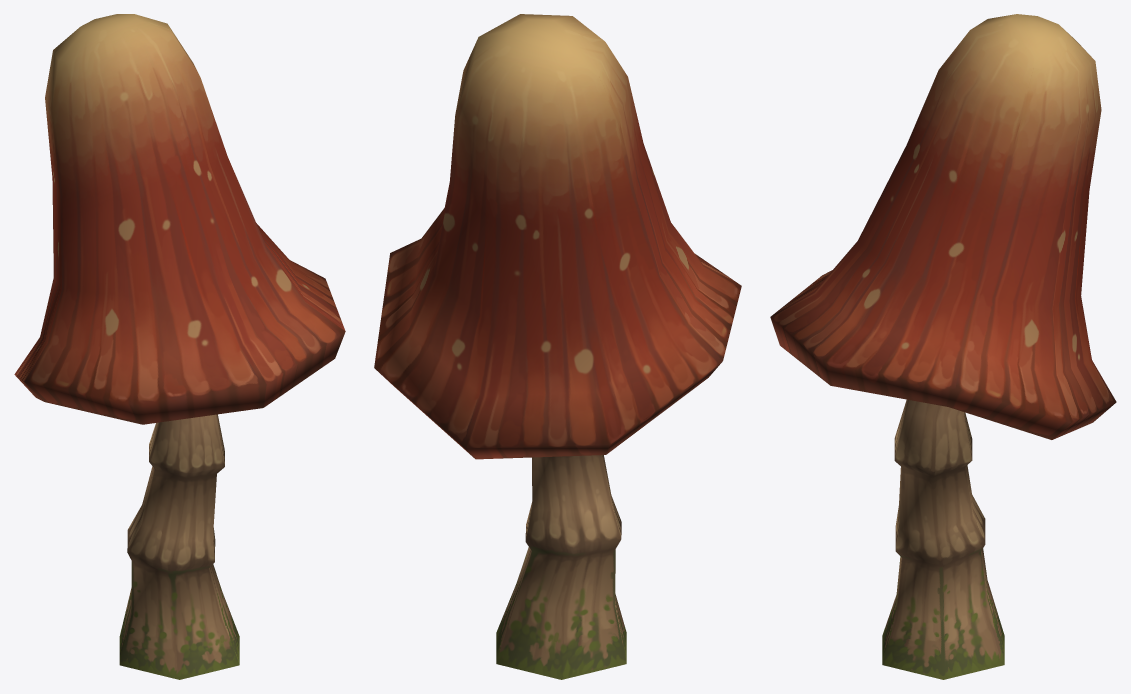
Rendered from Na_Mushroom_03.FBX.
3 renders of one model, left to right at view 1: azimuth 30°, elevation 25°; view 2: azimuth 150°, elevation 25°; view 3: azimuth 270°, elevation 25°, orthographic. The views are drawn at different scales.
Visible parts, largest first — view 1: Na_Mushroom_03; view 2: Na_Mushroom_03; view 3: Na_Mushroom_03.
Part boxes in pixels (bbox=[...]): Na_Mushroom_03: bbox=[14, 14, 345, 679]; Na_Mushroom_03: bbox=[374, 14, 741, 679]; Na_Mushroom_03: bbox=[770, 14, 1116, 679].
Bounding box in the file's own units: 2.35 × 4.48 × 2.27.
Materials: 1 (1 with a texture image).
